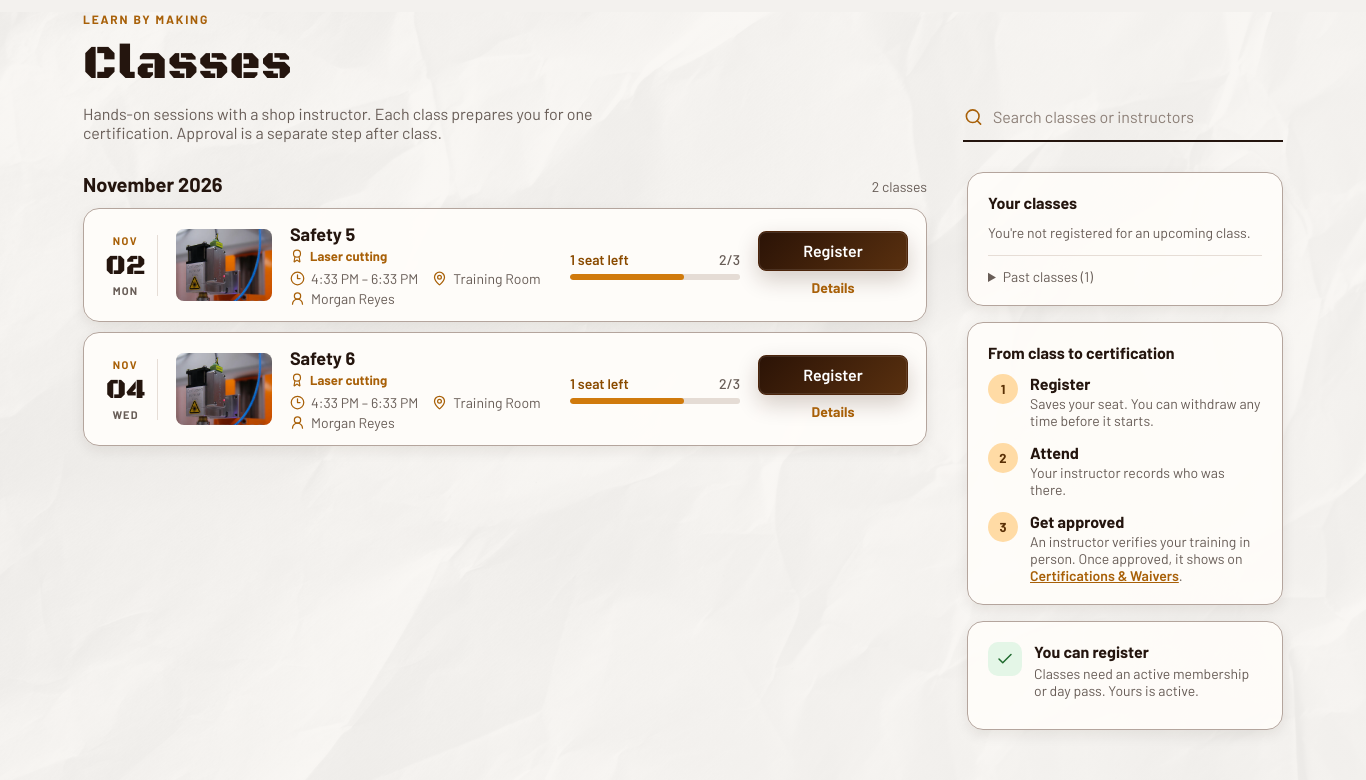
Scenario: member sees soonest classes first and registers with one click
The width and height of the screenshot is (1366, 780).
Expected: the headings read "Safety 5", "Safety 6", in this order, left=290, top=223, right=355, bottom=245; left=290, top=347, right=355, bottom=369
Expected: the heading "You can register" is shown, left=1034, top=642, right=1149, bottom=661
Click the button with aria-label "Register for Safety 5" at (833, 250), box left=758, top=230, right=908, bottom=270
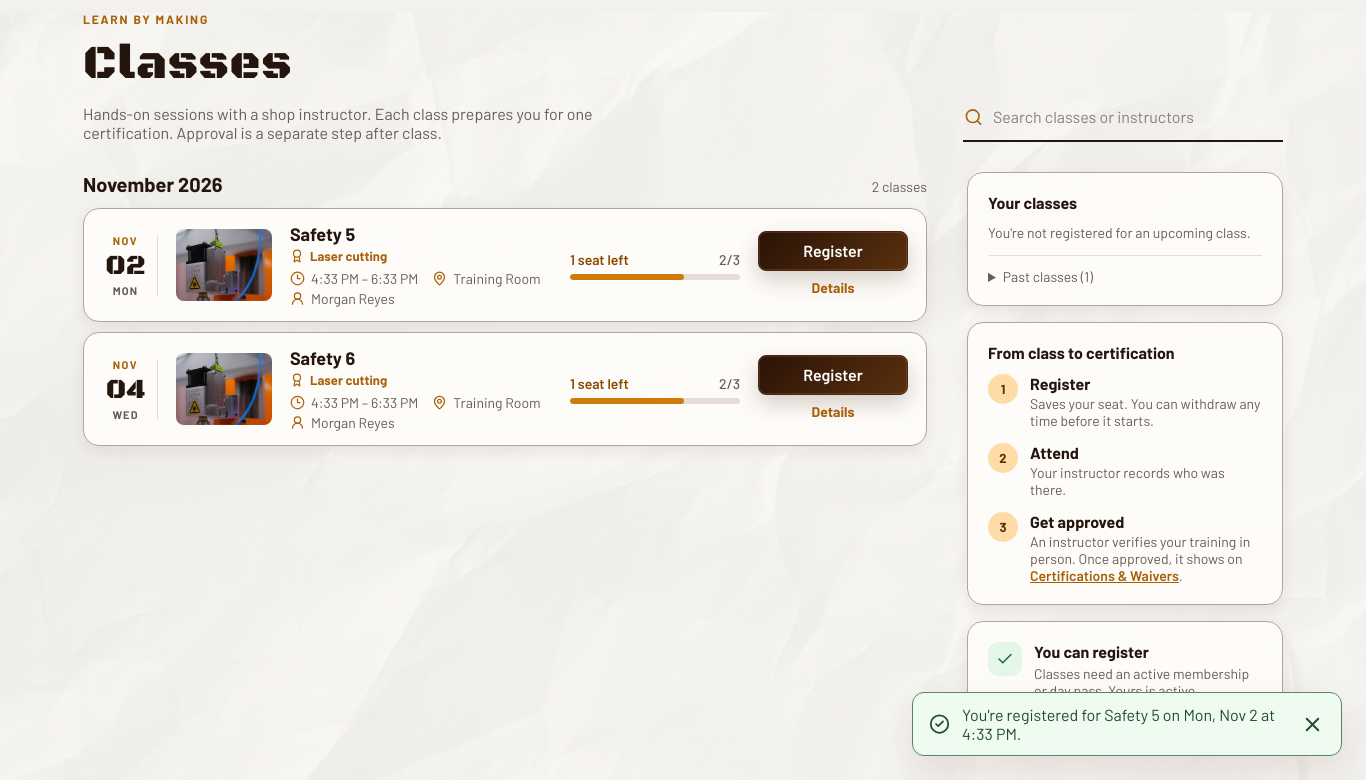
Now the text "You're registered for Safety 5 on Mon, Nov 2 at 4:33 PM." is shown, box left=962, top=705, right=1283, bottom=743
